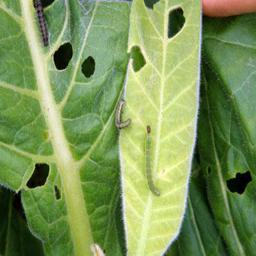Tobacco_budworm: (145, 126, 160, 196), (115, 98, 132, 130)
